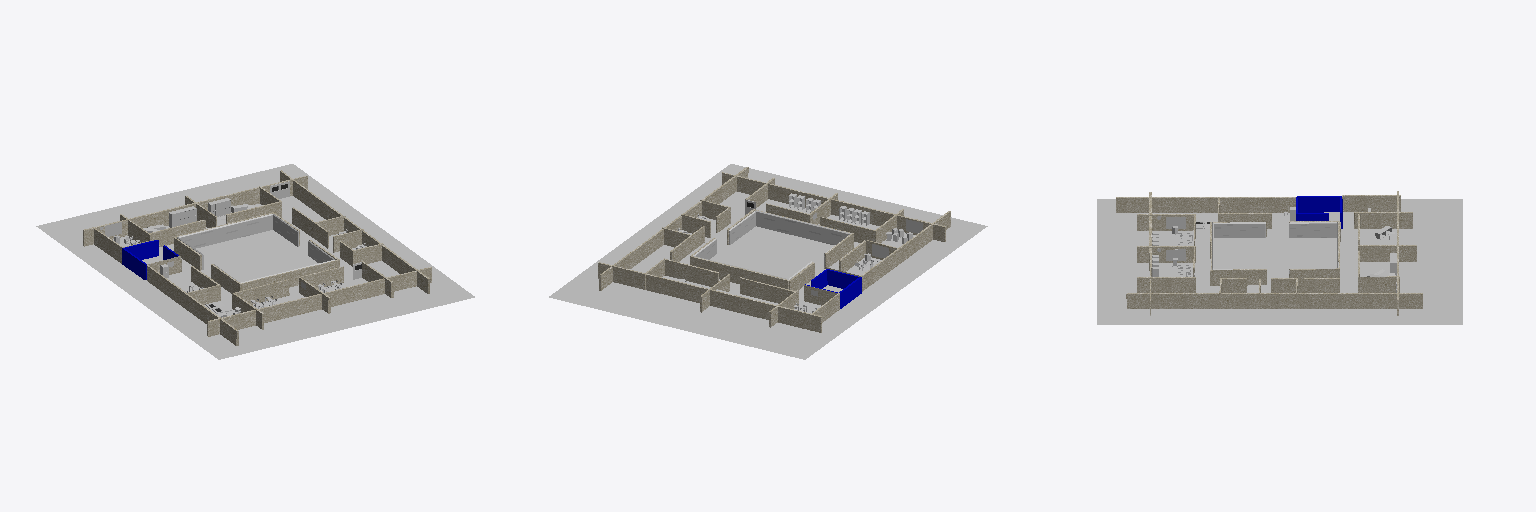
3 views of the same model, side by side, from view 1: azimuth 30°, elevation 25°; view 2: azimuth 150°, elevation 25°; view 3: azimuth 270°, elevation 25° (orthographic).
Visible parts, largest first — view 1: floor, grass, Cube.001, Cube.032, Cube.004, Cube.003, HEDGE.005, Cube.053, Cube.038, Cube.040, Cube.028, Cube.039; view 2: floor, grass, Cube.004, Cube.001, Cube.032, HEDGE.002, Cube.003, Cube.018, Cube.028, Cube.040, Cube.038; view 3: floor, Cube.032, grass, Cube.003, Cube.025, Cube.014, Cube.007, Cube.008, HEDGE.007, HEDGE.001, Cube.023, Cube.021 (+4 smaller).
Boxes of the visible parts, <box> form: floor: <box>36,164,474,359</box>; grass: <box>196,230,318,282</box>; Cube.001: <box>207,267,431,336</box>; Cube.032: <box>280,170,430,293</box>; Cube.004: <box>83,176,307,246</box>; Cube.003: <box>147,265,238,345</box>; HEDGE.005: <box>179,214,272,248</box>; Cube.053: <box>241,260,337,290</box>; Cube.038: <box>235,279,289,304</box>; Cube.040: <box>150,220,205,246</box>; Cube.028: <box>226,201,281,223</box>; Cube.039: <box>301,266,343,288</box>; floor: <box>549,164,987,359</box>; grass: <box>710,226,834,278</box>; Cube.004: <box>598,262,821,332</box>; Cube.001: <box>722,172,945,241</box>; Cube.032: <box>599,167,748,290</box>; HEDGE.002: <box>755,210,850,244</box>; Cube.003: <box>861,211,950,291</box>; Cube.018: <box>691,256,788,288</box>; Cube.028: <box>665,259,718,286</box>; Cube.040: <box>740,277,794,303</box>; Cube.038: <box>820,217,875,242</box>; floor: <box>1097,199,1462,324</box>; Cube.032: <box>1126,293,1422,308</box>; grass: <box>1214,237,1336,284</box>; Cube.003: <box>1116,197,1295,212</box>; Cube.025: <box>1342,195,1400,211</box>; Cube.014: <box>1137,277,1195,292</box>; Cube.007: <box>1354,212,1412,228</box>; Cube.008: <box>1358,245,1416,261</box>; HEDGE.007: <box>1214,222,1266,237</box>; HEDGE.001: <box>1289,222,1336,237</box>; Cube.023: <box>1297,196,1341,212</box>; Cube.021: <box>1210,269,1266,285</box>.
Bounding box in the file's own units: 97.19 × 7.69 × 120.
159 materials, 1 textured.